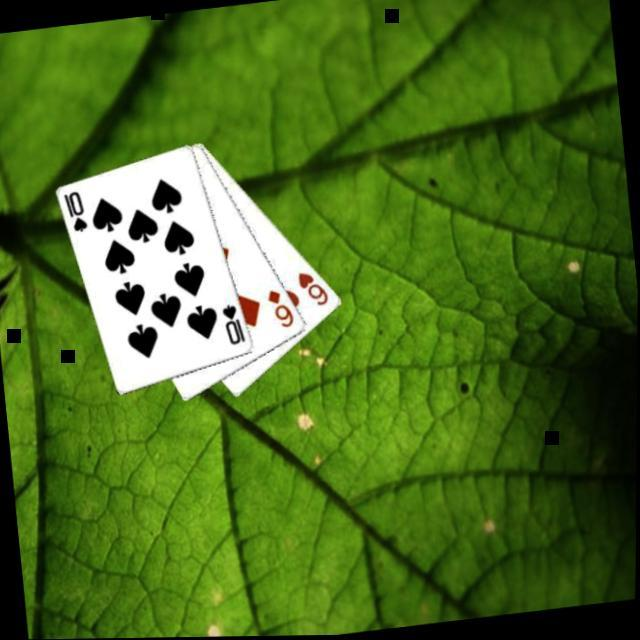10S: (62, 188, 92, 238), (220, 301, 250, 348)
6D: (264, 286, 298, 334)
6H: (295, 268, 333, 313)
